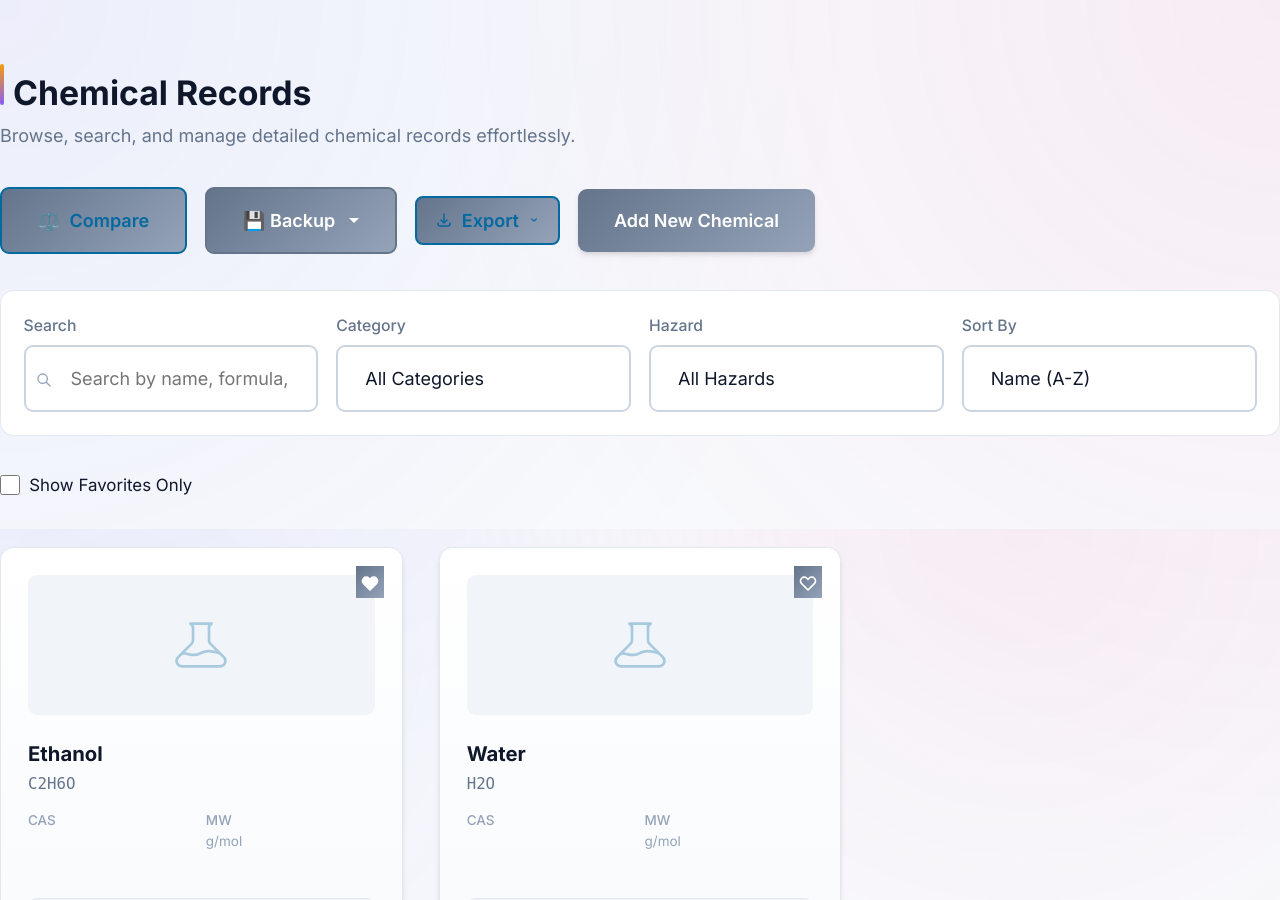
Test: Favorites filter › shows only favorites when toggled
Expected: the heading "Water" is shown, [467, 741, 526, 766]
Expected: the heading "Ethanol" is shown, [28, 741, 103, 766]
// Toggle favorites only
Click the checkbox labelled "Show Favorites Only" at point(10, 485), box [0, 475, 20, 495]
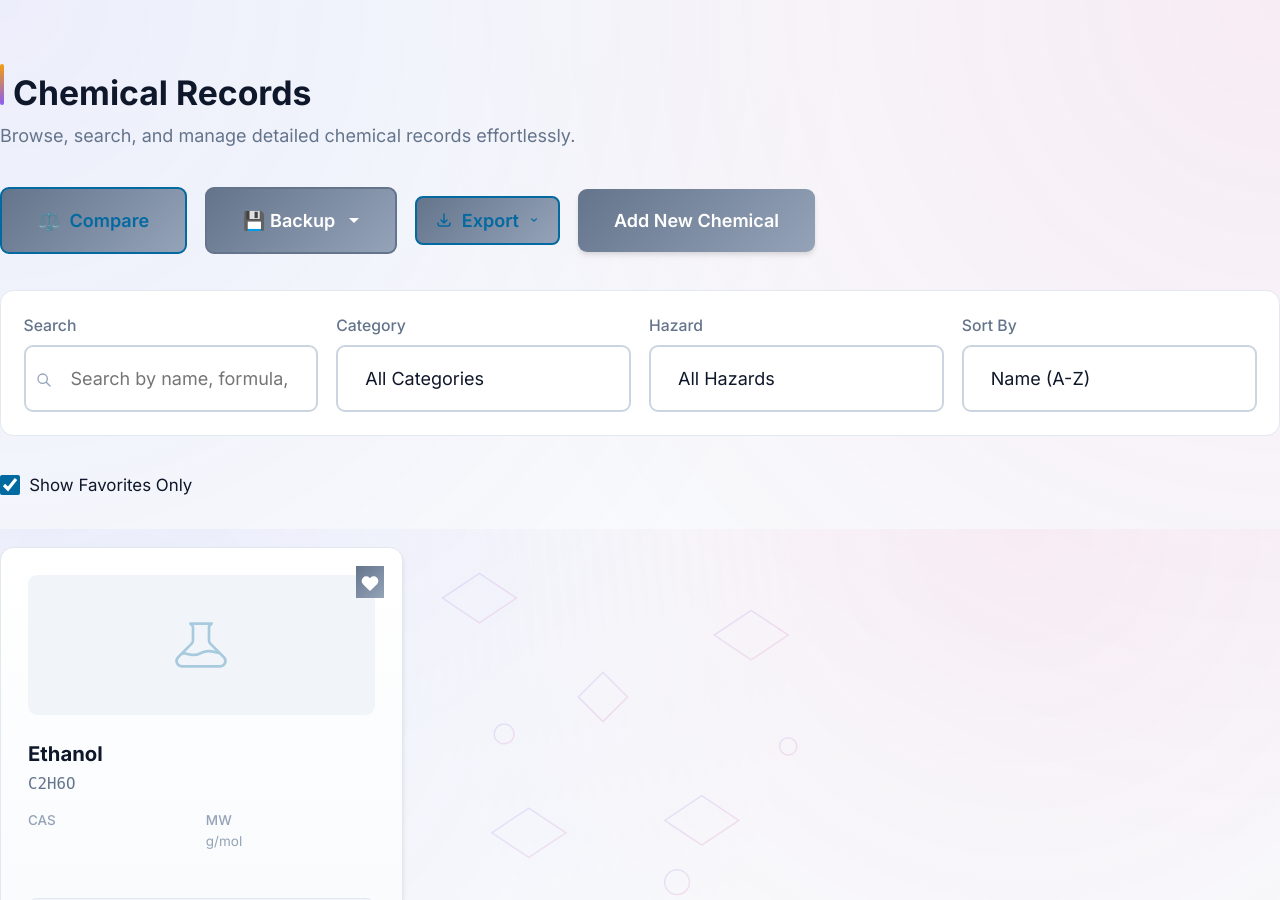
Expected: the heading "Ethanol" is shown, [28, 741, 103, 766]
Result: the link "Water" is gone
